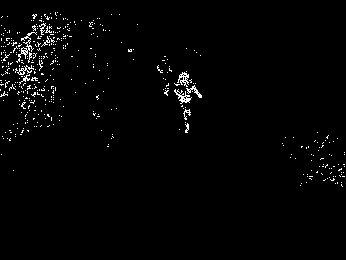person: (175, 68, 201, 139)
